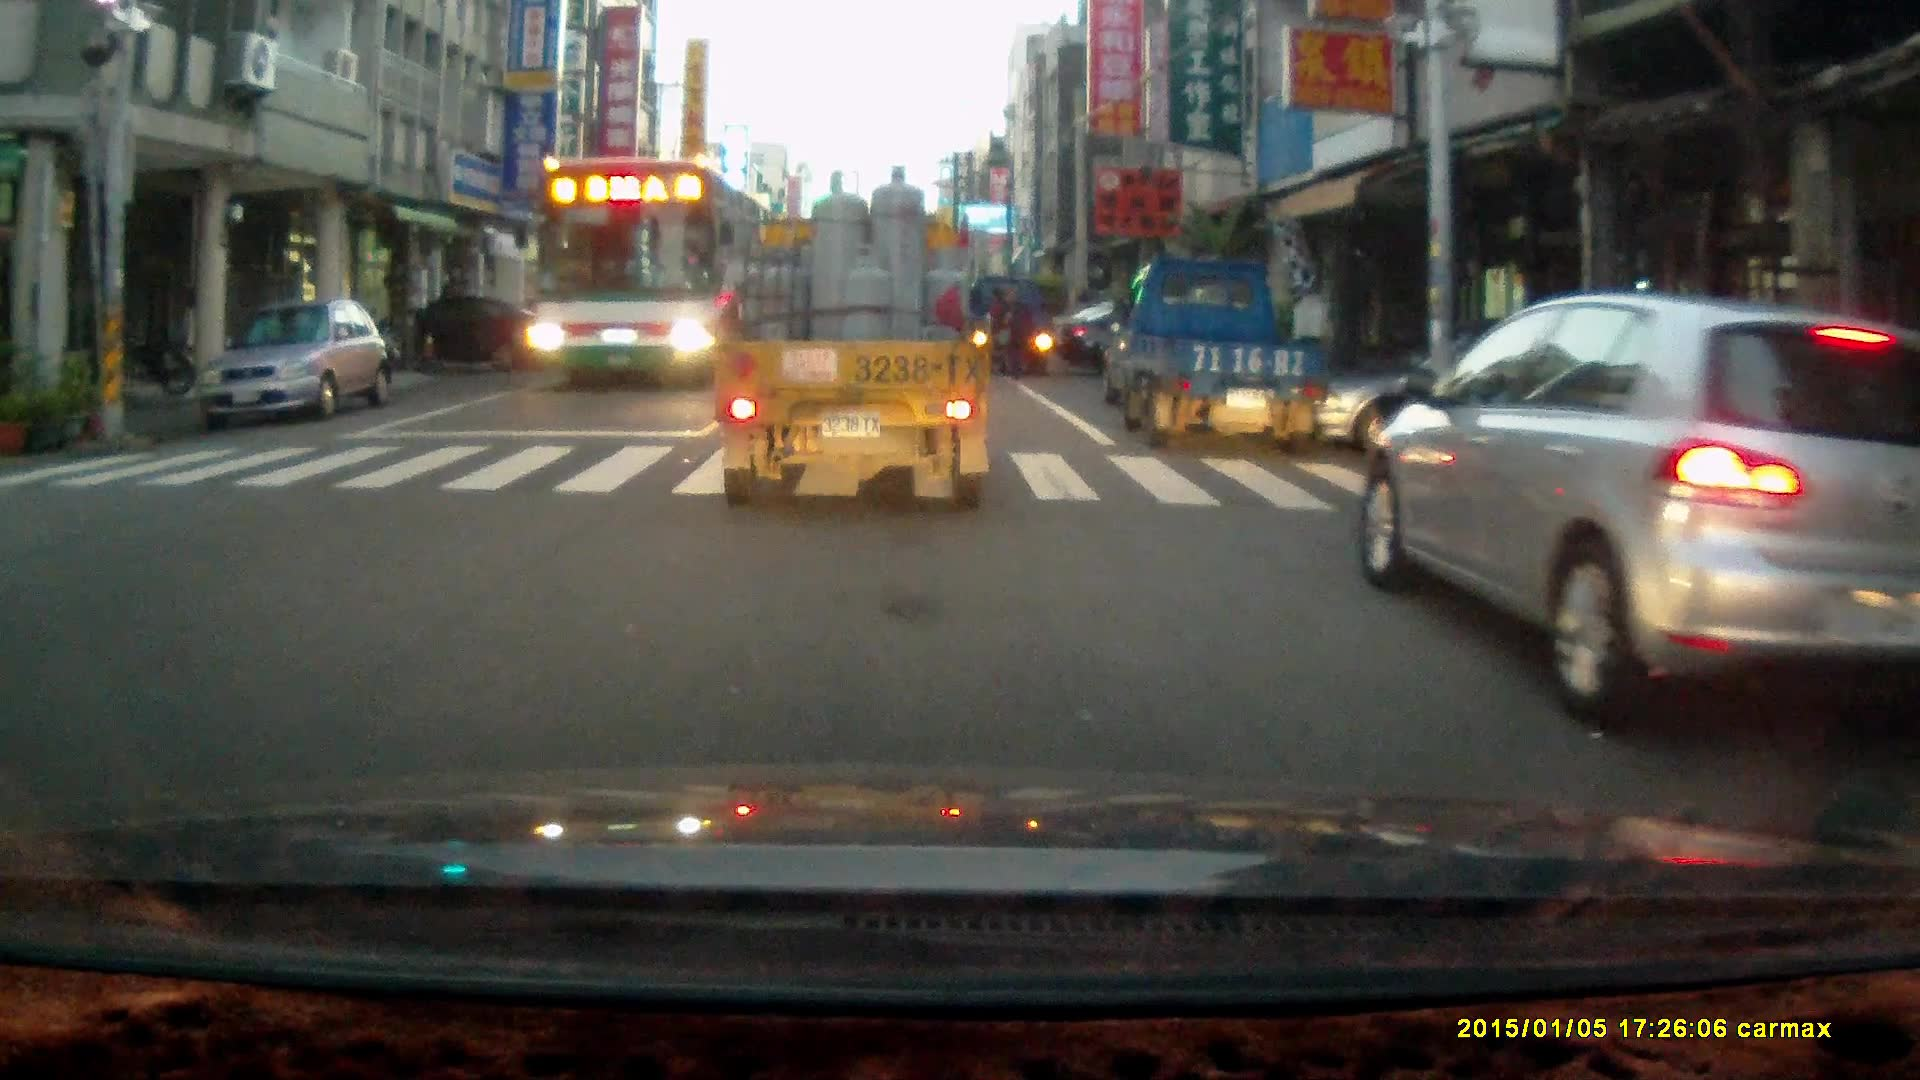pedestrian: (996, 282, 1037, 379)
vehicle: (1358, 294, 1920, 732), (718, 160, 998, 514), (525, 153, 769, 389), (1103, 254, 1330, 453), (192, 291, 398, 427), (367, 290, 556, 371), (969, 271, 1064, 380)
